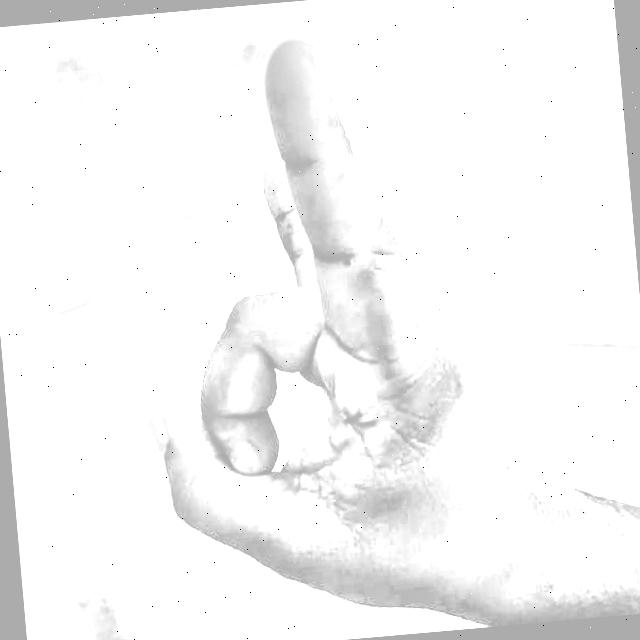Cha: (61, 2, 588, 640)
